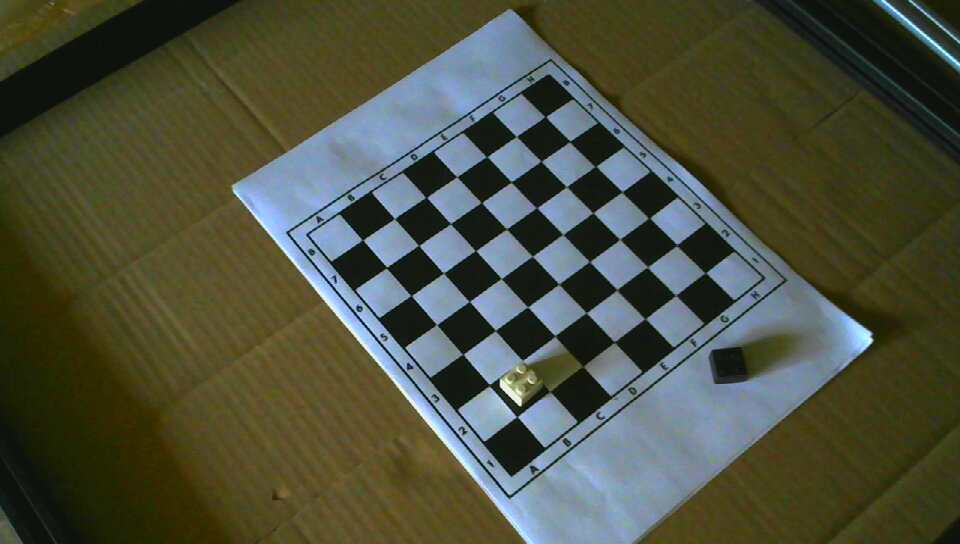bp: (709, 345, 748, 385)
wp: (500, 362, 542, 407)
